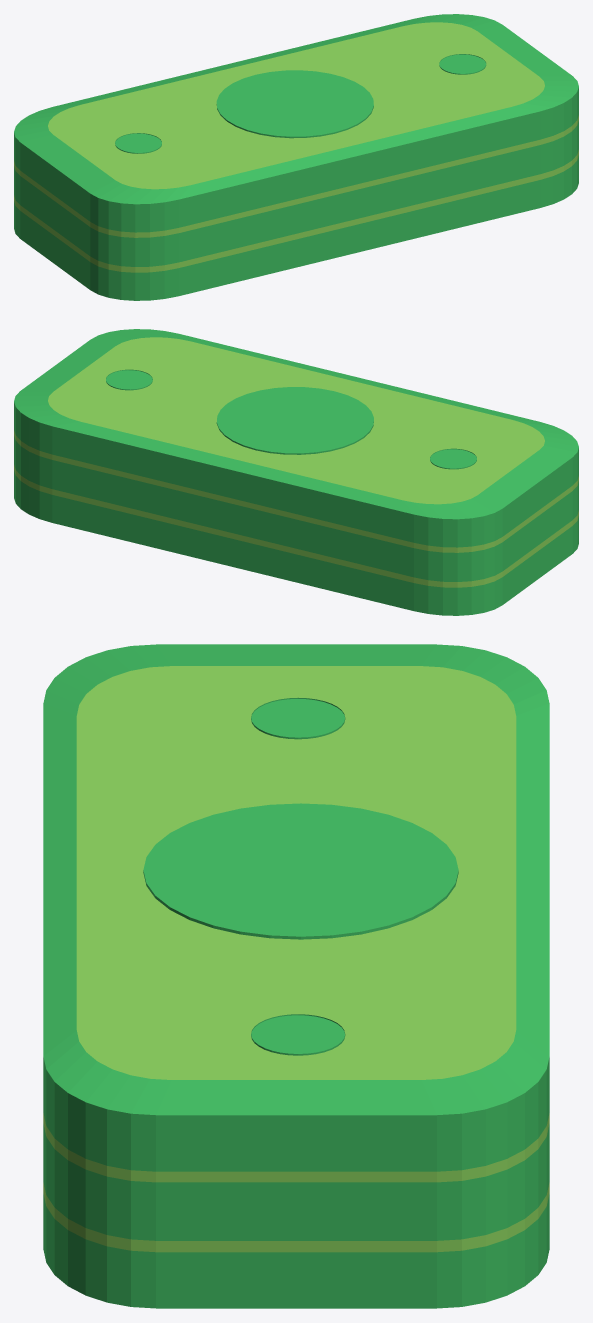
The model's file is moneyt.fbx.
The picture shows the model from 3 angles, top to bottom: view 1: azimuth 30°, elevation 25°; view 2: azimuth 150°, elevation 25°; view 3: azimuth 270°, elevation 25°; orthographic projection. The views are drawn at different scales.
Visible parts, largest first — view 1: money.001; view 2: money.001; view 3: money.001.
Part boxes in pixels (<box>): money.001: <box>14,14,578,300</box>; money.001: <box>14,329,578,615</box>; money.001: <box>43,644,549,1308</box>.
Bounding box in the file's own units: 185 × 37.14 × 83.92.
